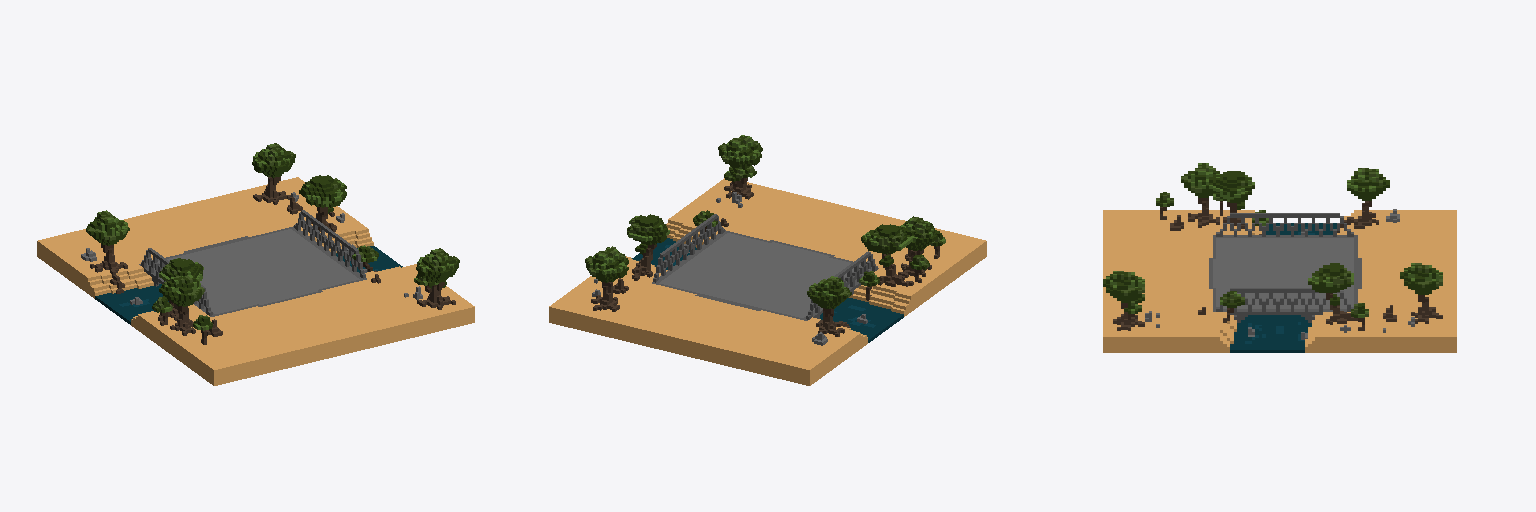
The picture shows the model from 3 angles: view 1: azimuth 30°, elevation 25°; view 2: azimuth 150°, elevation 25°; view 3: azimuth 270°, elevation 25°; orthographic projection.
Parts seen in each view (by area): view 1: object 1; view 2: object 1; view 3: object 1.
Part boxes in pixels (left/top/right/bottom): object 1: left=37, top=143, right=474, bottom=385; object 1: left=549, top=135, right=986, bottom=385; object 1: left=1103, top=163, right=1456, bottom=352.
Size of the model in its own units: 8.5 by 2.1 by 10.
1 materials, 1 textured.